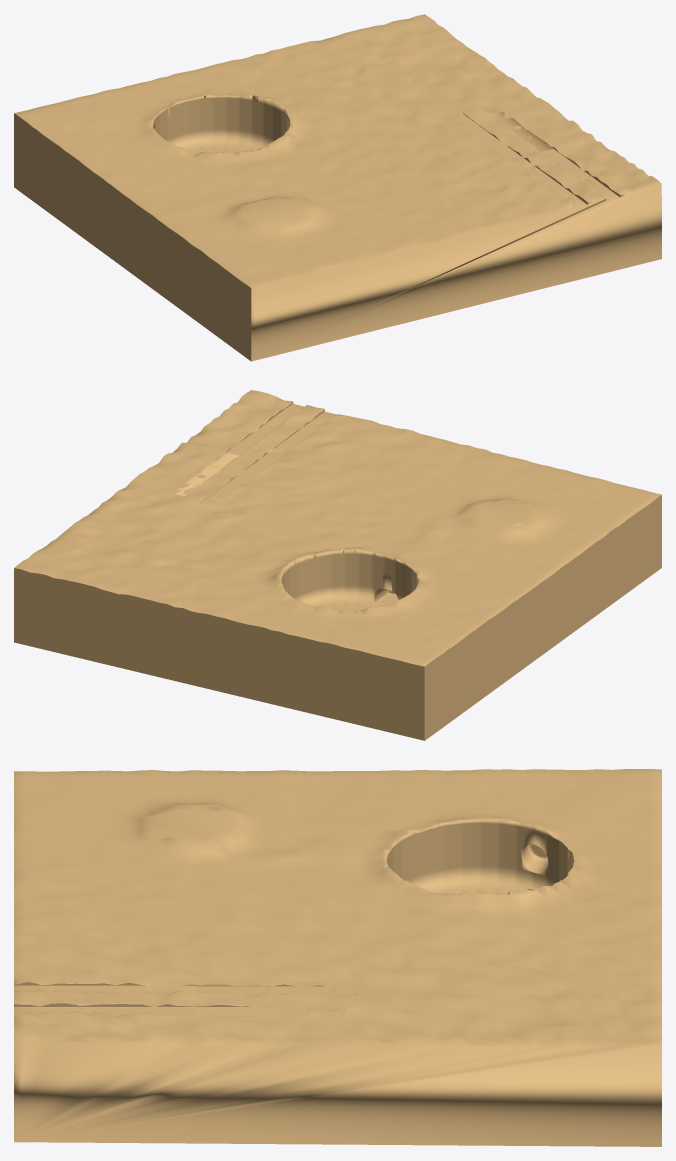
File: tatooine-floor.gltf
3 views of the same model, one above another, from view 1: azimuth 30°, elevation 25°; view 2: azimuth 150°, elevation 25°; view 3: azimuth 270°, elevation 25° (orthographic). The views are drawn at different scales.
Visible parts, largest first — view 1: Cube.019; view 2: Cube.019; view 3: Cube.019.
Boxes of the visible parts, x1,y1,x2,y2 form: Cube.019: [14, 14, 661, 361]; Cube.019: [14, 390, 661, 740]; Cube.019: [14, 769, 661, 1146].
Bounding box in the file's own units: 8.01 × 1.56 × 8.01.
